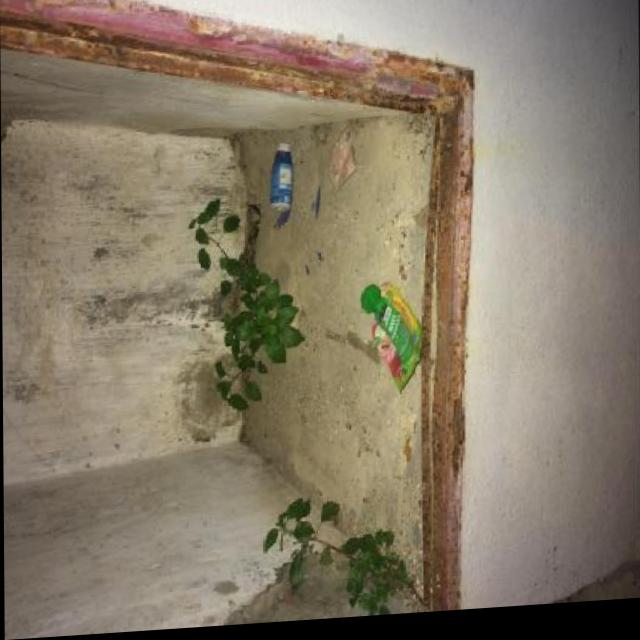plastic: (361, 280, 426, 396), (271, 142, 295, 213)
